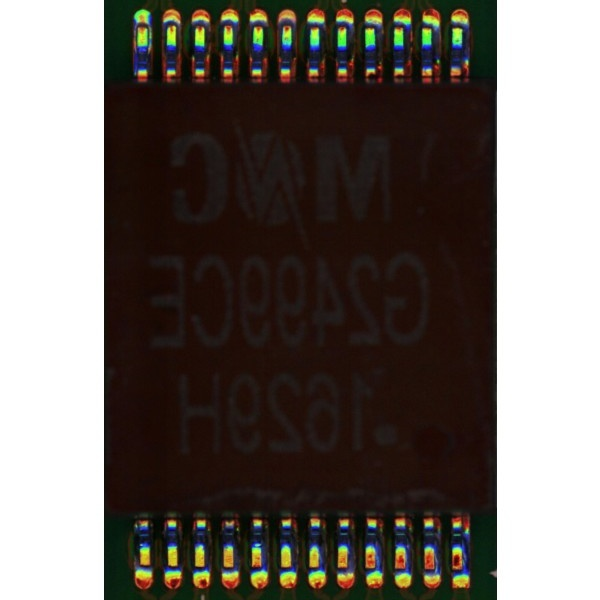Bad_podu: (138, 16, 146, 32)
Bad_qiaojiao: (148, 27, 153, 54), (133, 26, 138, 52)
